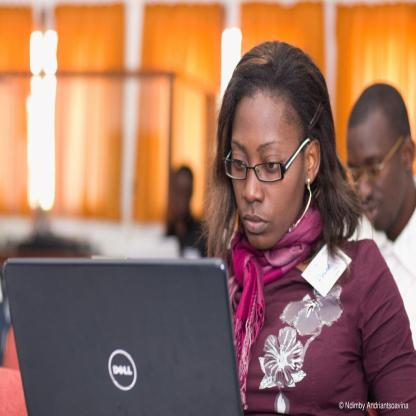board: (5, 252, 244, 416)
